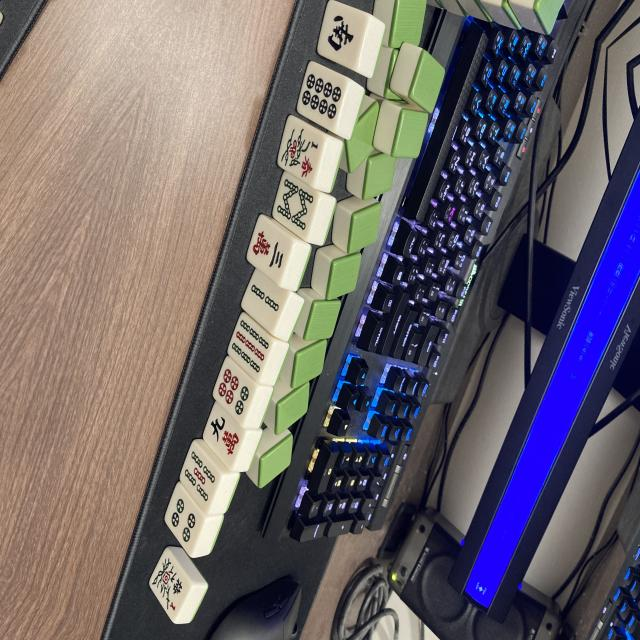1F: (145, 550, 192, 619)
1S: (274, 115, 328, 187)
2B: (238, 267, 292, 331)
3C: (246, 216, 298, 284)
4D: (161, 491, 208, 552)
5B: (177, 440, 227, 506)
6D: (209, 358, 264, 427)
8B: (270, 173, 322, 242)
8D: (296, 59, 356, 134)
9B: (223, 318, 275, 384)
9C: (198, 402, 250, 468)
SW: (317, 0, 371, 70)
